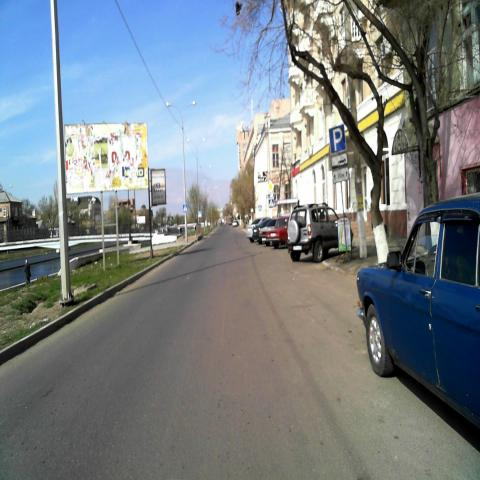8_6_4: (331, 154, 347, 168)
